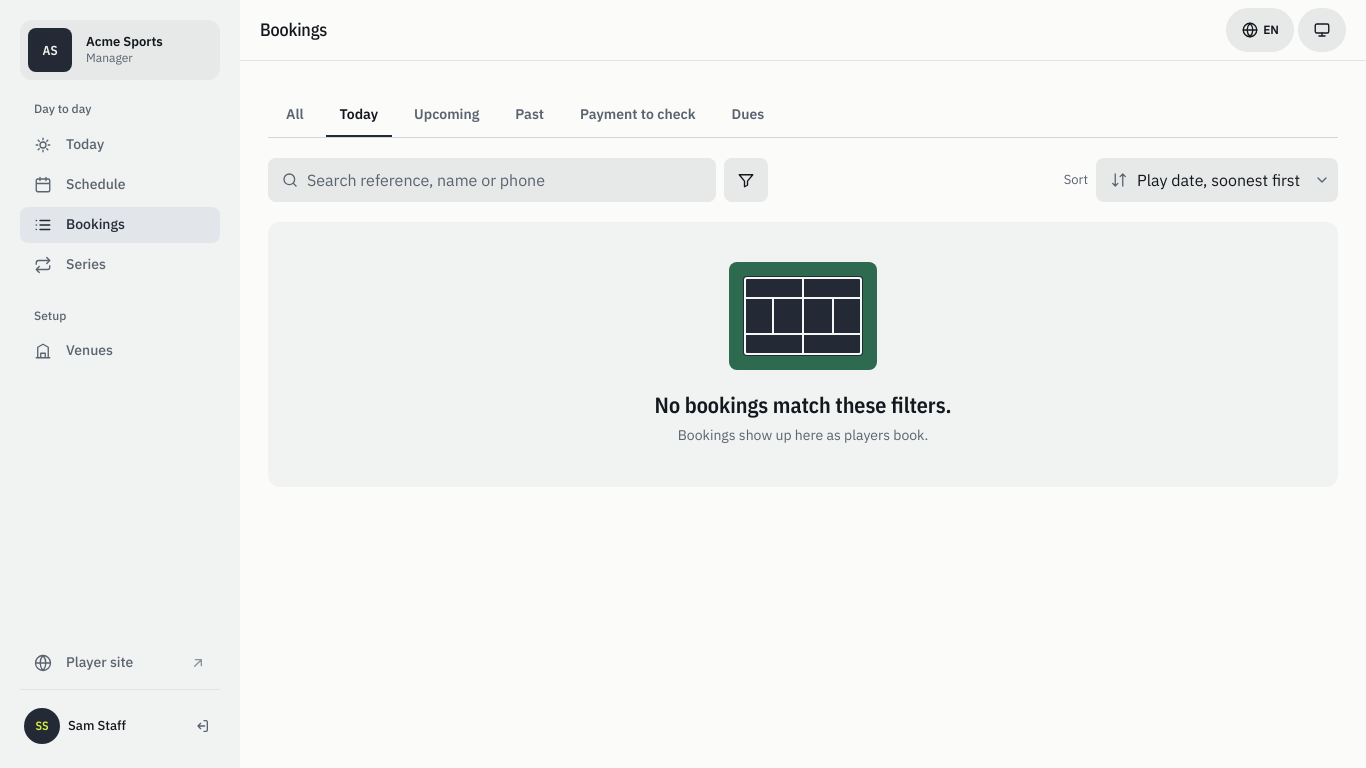
Test case: Bookings page › a search waits for a pause, stays in the tab and says when nothing matches
Check: the text "No bookings match these filters." is shown, box [655,392,952,417]
Type "zed" into the search field labelled "Search reference, name or phone". click: (492, 180)
box: [268,158,716,202]
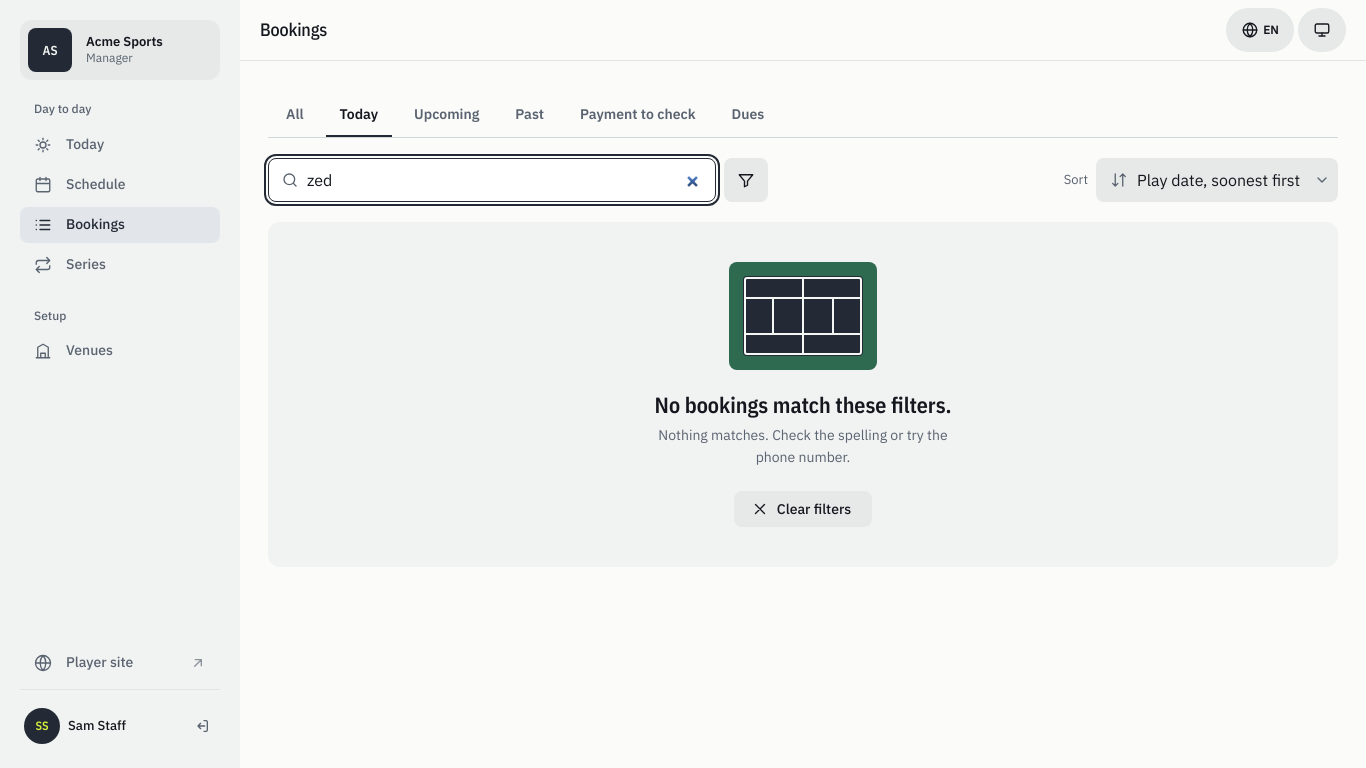
Check: the text "Nothing matches. Check the spelling or try the phone number." is shown, box [635,425,971,469]
